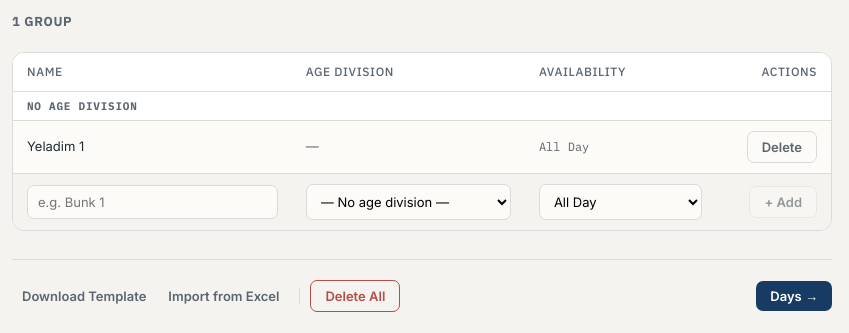
Test: GroupsScreen › editing a group writes the changed fields and reloads
Click the button with aria-label "Edit Yeladim 1" at x=56, y=146, box [27,138,84,154]
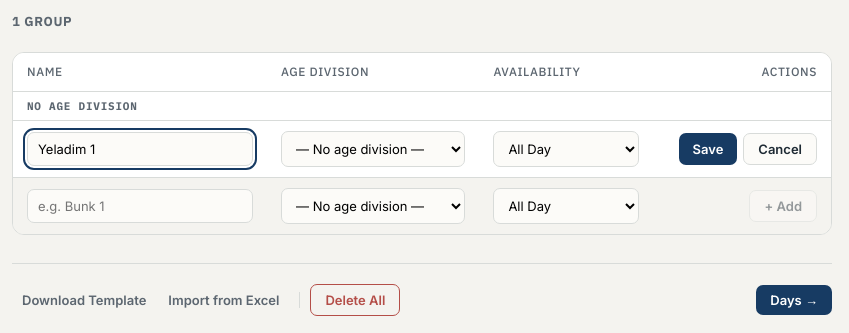
Replace the text in the field showing "Yeladim 1" with "Renamed" at x=140, y=149, box [27,132,253,166]
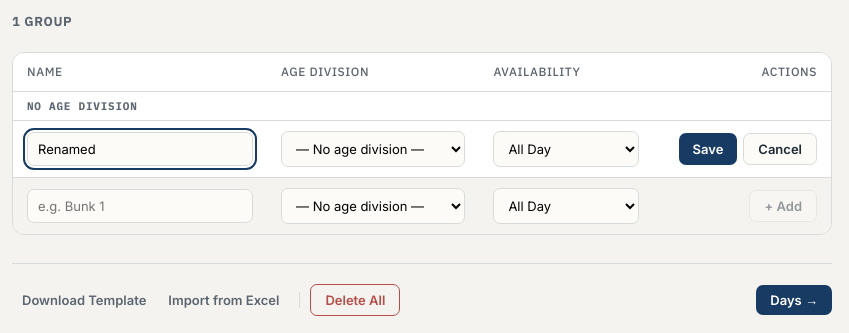
Click the button "Save" at x=708, y=149, box [678,133,737,165]
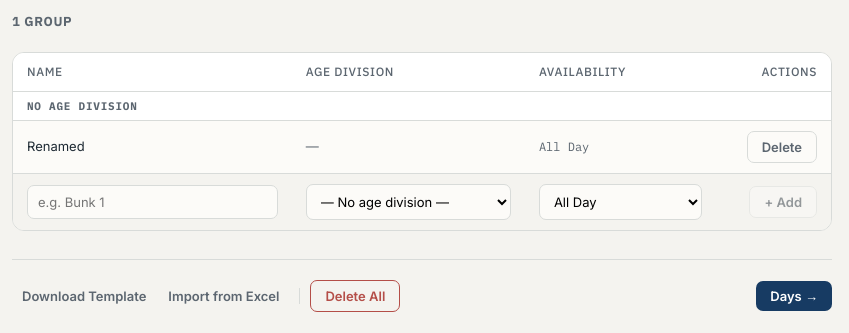
Expected: the button "Renamed" is shown, [27,138,85,154]
